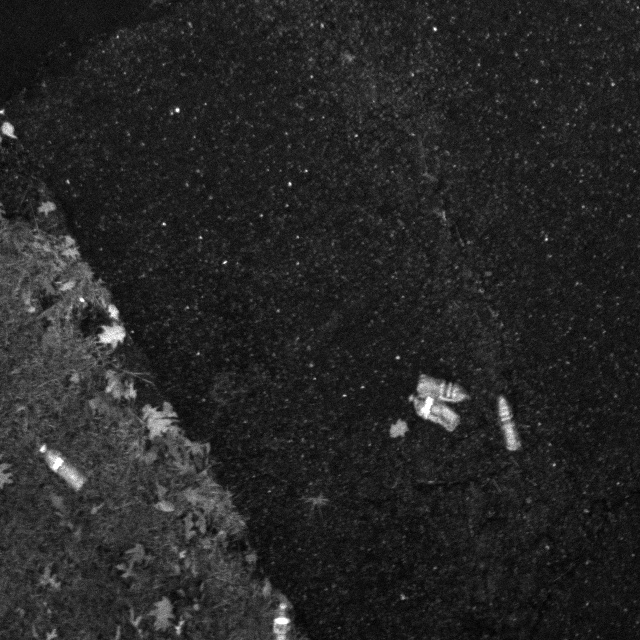bottle: (36, 442, 91, 492), (410, 370, 474, 407), (492, 392, 524, 460), (405, 397, 460, 434)
